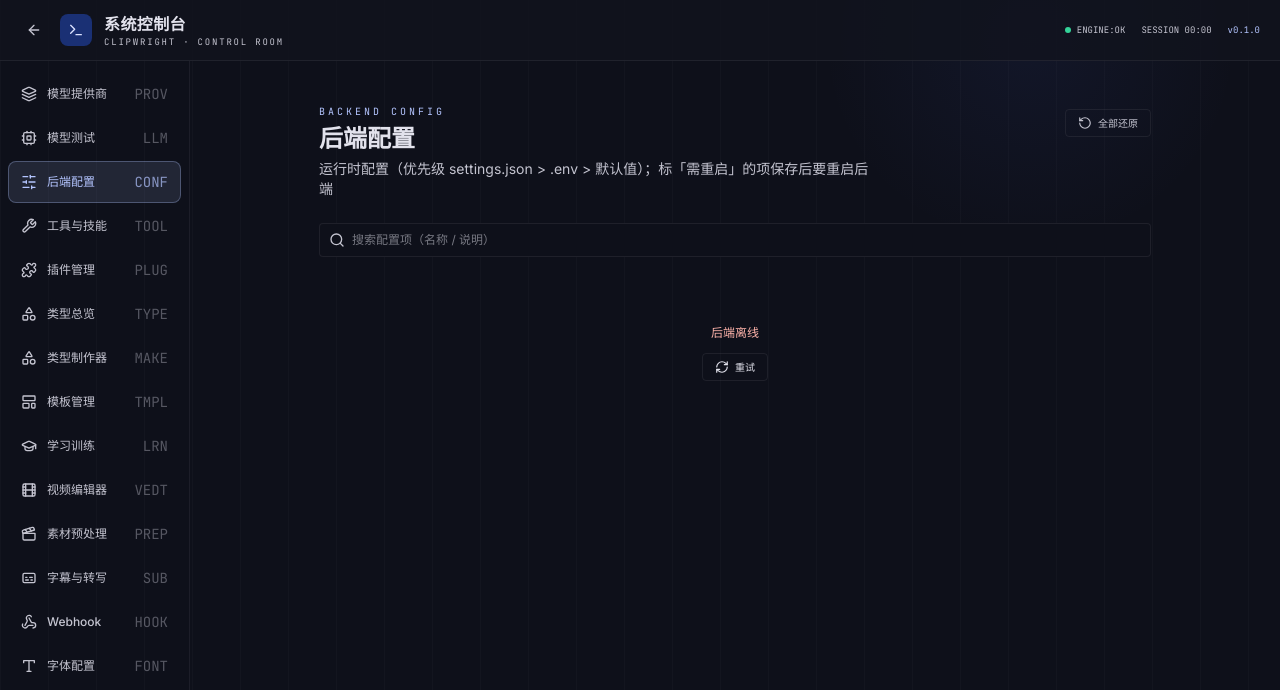
Test: BackendConfigPage › 加载失败显示错误与重试
Expected: the text "后端离线" is shown, [711,325,759,340]
Click the button "重试". click: (735, 367)
box: [702,353,768,381]
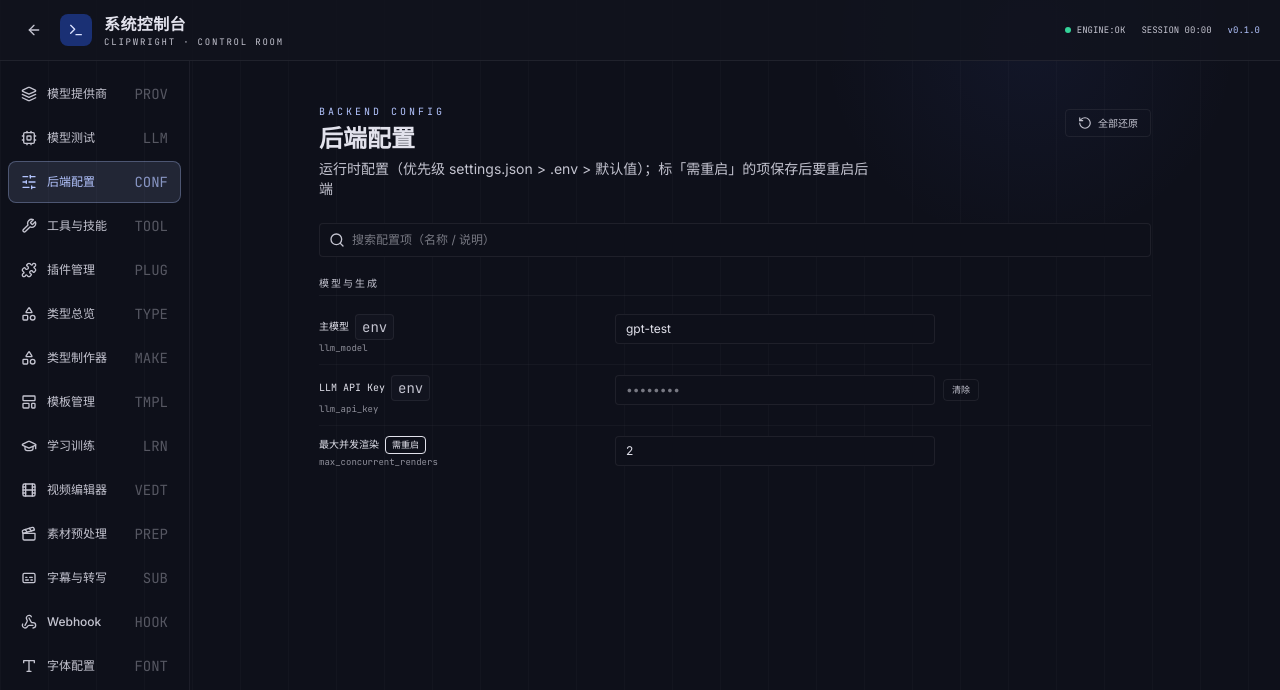
Expected: the heading "模型与生成" is shown, [319,277,1151,296]
